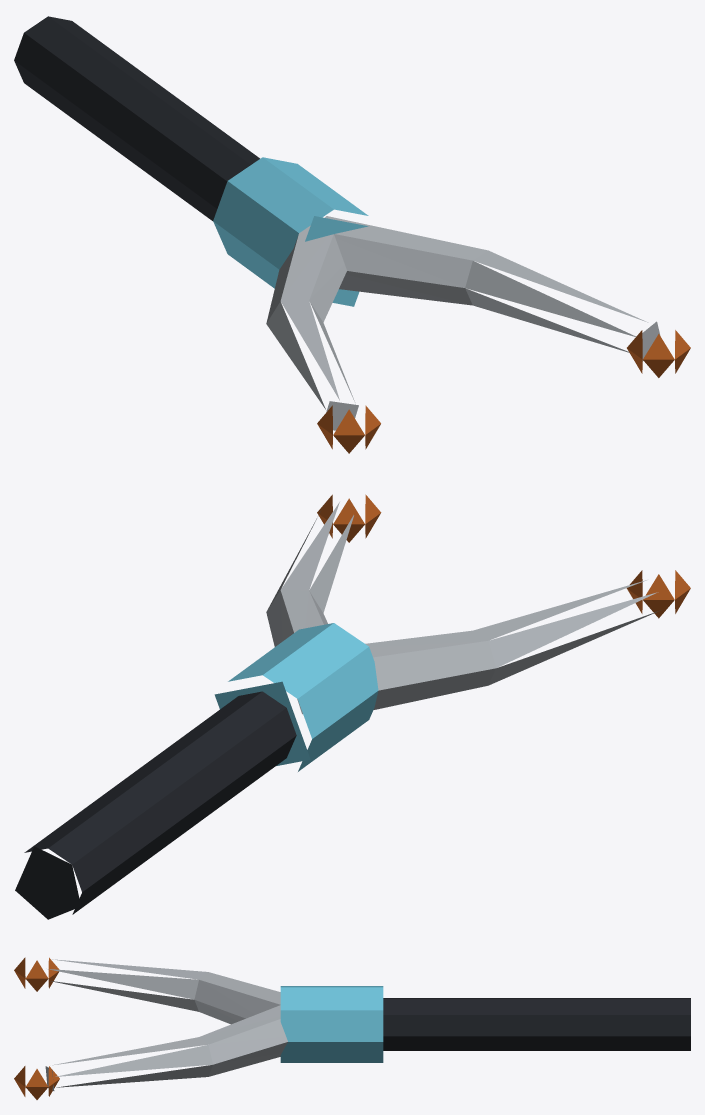
The model's file is energy-slingshot.lod.glb.
3 renders of one model, top to bottom at view 1: azimuth 30°, elevation 25°; view 2: azimuth 150°, elevation 25°; view 3: azimuth 270°, elevation 25°, orthographic. The views are drawn at different scales.
Parts seen in each view (by area): view 1: m; view 2: m; view 3: m.
Part boxes in pixels (x1,y1,x2,y2): m: [14, 16, 690, 453]; m: [15, 494, 690, 919]; m: [14, 957, 690, 1099].
Bounding box in the file's own units: 0.1313 × 0.0364 × 0.3.
